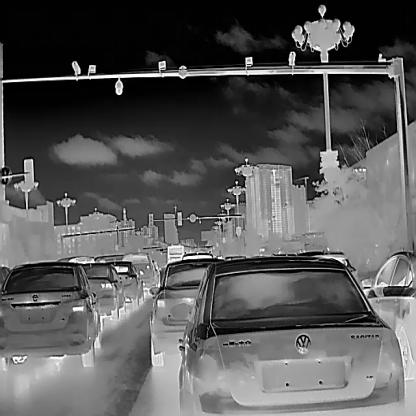bus: (166, 242, 193, 263)
car: (177, 257, 404, 415), (0, 259, 99, 371), (149, 256, 225, 366), (359, 251, 415, 379), (82, 263, 125, 320), (106, 261, 144, 308), (120, 251, 161, 292)
